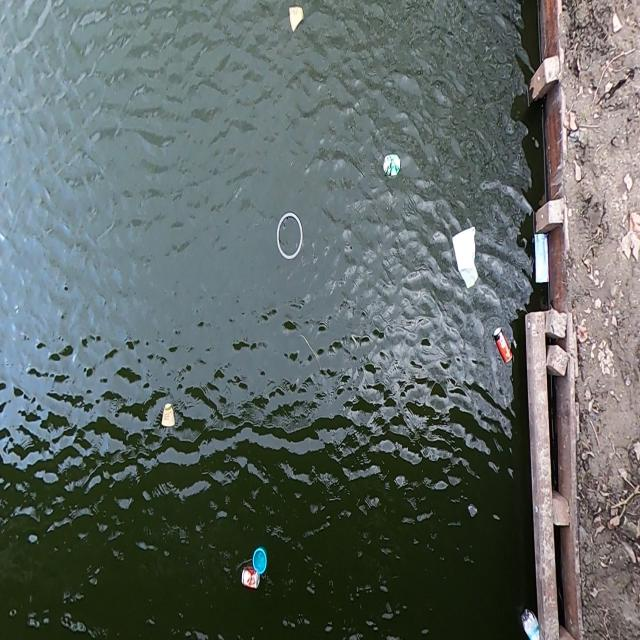Autre plastique: (451, 226, 482, 294), (253, 544, 269, 573)
Non plastique: (493, 324, 515, 367), (379, 149, 403, 181), (286, 3, 309, 35), (160, 397, 178, 431), (238, 569, 263, 591)
